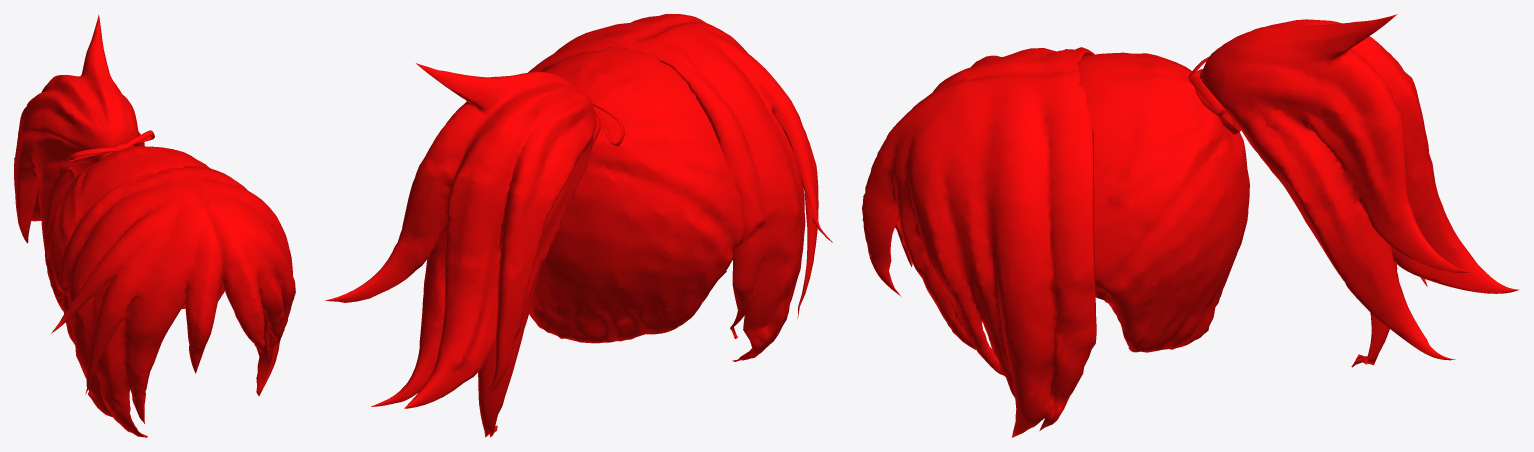
The model's file is culturalibre_hair_13_M.glb.
3 views of the same model, side by side, from view 1: azimuth 30°, elevation 25°; view 2: azimuth 150°, elevation 25°; view 3: azimuth 270°, elevation 25° (orthographic). The views are drawn at different scales.
Size of the model in its own units: 0.2507 by 0.3036 by 0.4296.
Materials: 1 (1 with a texture image).
